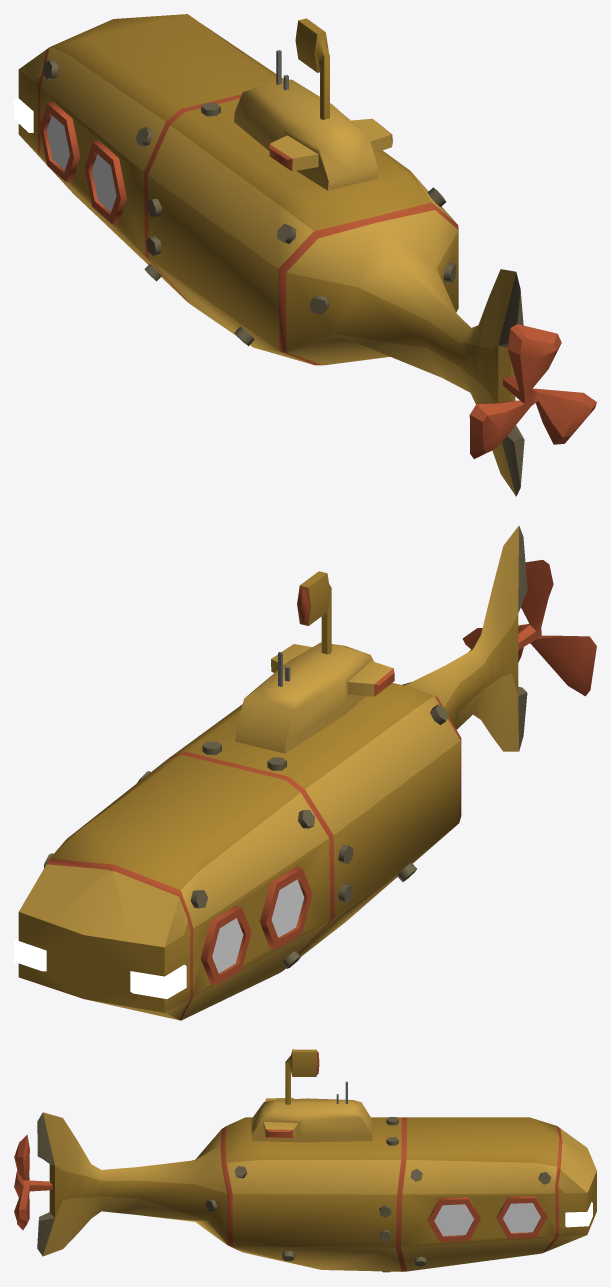
The model's file is Yellow Submarine.fbx.
The picture shows the model from 3 angles, top to bottom: view 1: azimuth 30°, elevation 25°; view 2: azimuth 150°, elevation 25°; view 3: azimuth 270°, elevation 25°; orthographic projection. The views are drawn at different scales.
Parts seen in each view (by area): view 1: Body, Head, Rotor, Window Frame, Bolts, Extra, Window Glass; view 2: Body, Head, Rotor, Window Frame, Window Glass, Bolts, Extra; view 3: Body, Head, Window Glass, Window Frame, Rotor, Bolts, Extra.
Part boxes in pixels (x1,y1,x2,y2): Body: [14, 14, 524, 496]; Head: [234, 79, 392, 190]; Rotor: [469, 324, 596, 458]; Window Frame: [39, 102, 126, 224]; Bolts: [43, 60, 456, 346]; Extra: [276, 18, 329, 119]; Window Glass: [47, 115, 116, 211]; Body: [14, 525, 527, 1020]; Head: [235, 642, 394, 753]; Rotor: [462, 560, 596, 696]; Window Frame: [200, 866, 312, 985]; Window Glass: [212, 879, 304, 973]; Bolts: [44, 704, 448, 968]; Extra: [278, 571, 331, 686]; Body: [37, 1112, 596, 1271]; Head: [251, 1097, 372, 1142]; Window Glass: [434, 1203, 540, 1235]; Window Frame: [427, 1196, 547, 1241]; Rotor: [14, 1134, 52, 1230]; Bolts: [205, 1117, 550, 1272]; Extra: [285, 1049, 347, 1104].
Size of the model in its own units: 314 by 504 by 1264.
Materials: 4 (1 with a texture image).
